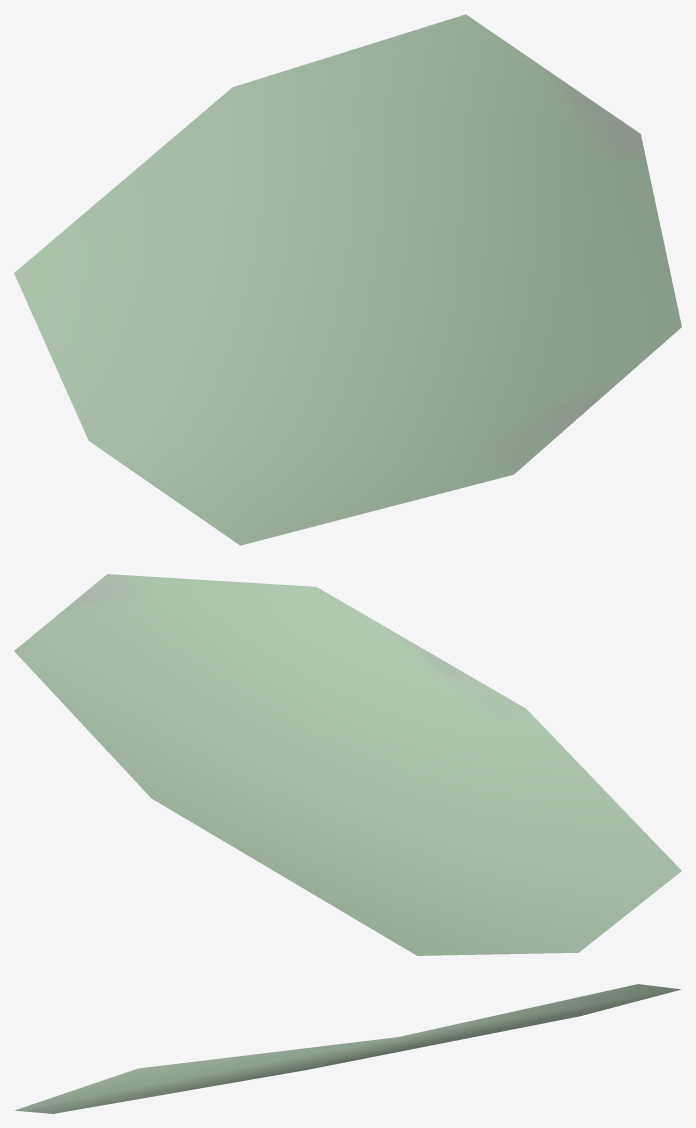
The model's file is TROLLHOLE02_HOLECAP79.fbx.
3 views of the same model, one above another, from view 1: azimuth 30°, elevation 25°; view 2: azimuth 150°, elevation 25°; view 3: azimuth 270°, elevation 25° (orthographic). The views are drawn at different scales.
Visible parts, largest first — view 1: TROLLHOLE02_HOLECAP79; view 2: TROLLHOLE02_HOLECAP79; view 3: TROLLHOLE02_HOLECAP79.
Boxes of the visible parts, left/top/right/bottom form: TROLLHOLE02_HOLECAP79: left=14, top=14, right=681, bottom=545; TROLLHOLE02_HOLECAP79: left=14, top=574, right=681, bottom=955; TROLLHOLE02_HOLECAP79: left=14, top=984, right=681, bottom=1113.
Size of the model in its own units: 10616 by 5318 by 11766.
1 material, 1 textured.
